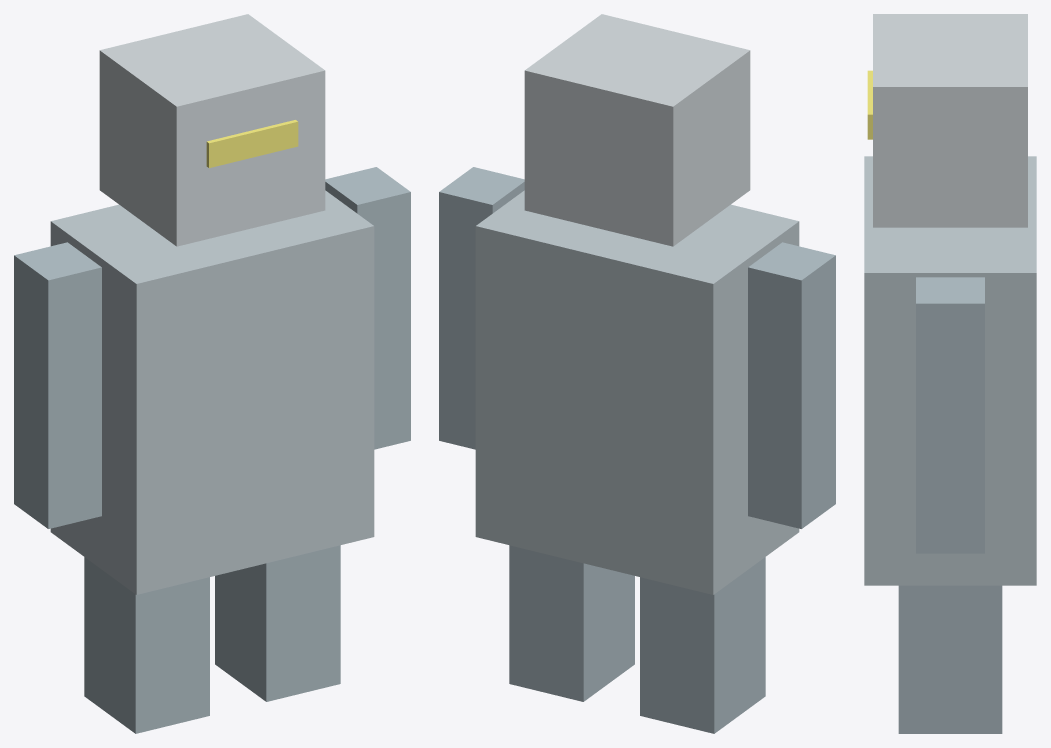
The model's file is k-vrc.glb.
3 views of the same model, side by side, from view 1: azimuth 30°, elevation 25°; view 2: azimuth 150°, elevation 25°; view 3: azimuth 270°, elevation 25° (orthographic).
Size of the model in its own units: 0.4519 by 0.75 by 0.1852.
